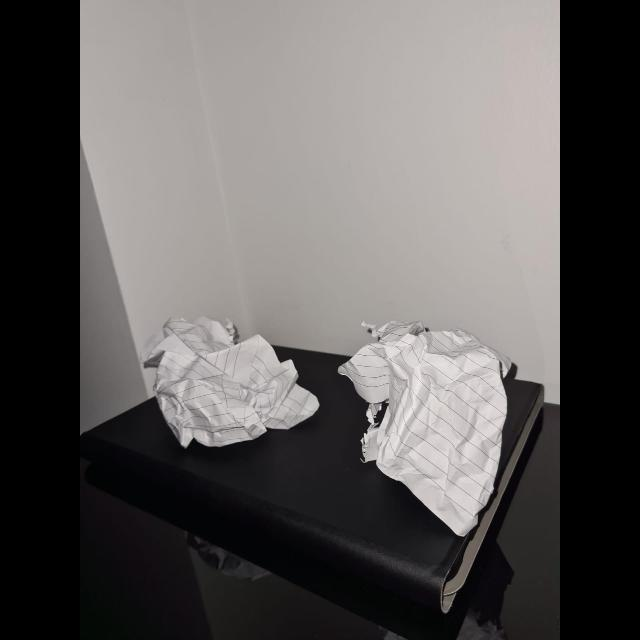scrap_paper: (348, 306, 514, 528), (141, 311, 325, 445)
